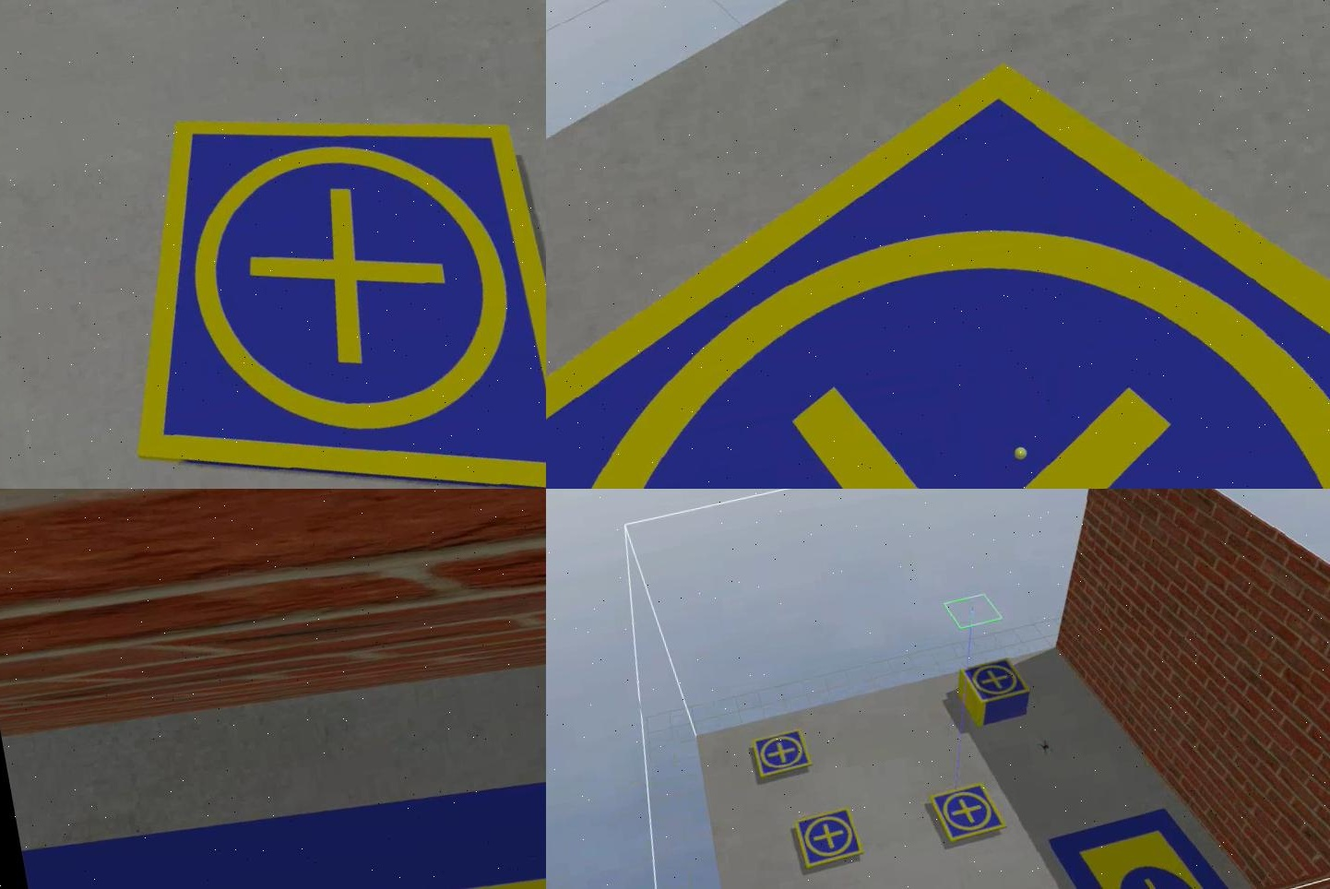large_base: (21, 731, 545, 889), (1046, 798, 1234, 889)
small_base: (545, 1, 1328, 490), (79, 63, 545, 490), (926, 779, 1006, 847), (789, 804, 864, 871), (958, 654, 1028, 712), (747, 727, 815, 783)
